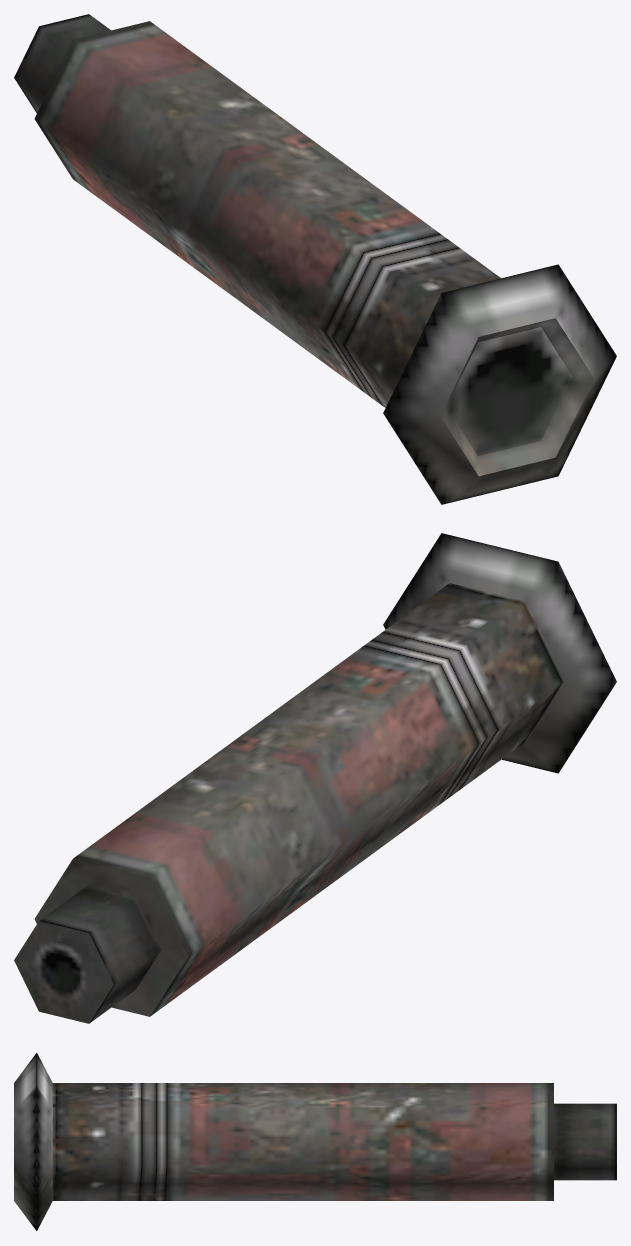
The model's file is eqp_comp_projectile_pistol_barrel.fbx.
3 views of the same model, one above another, from view 1: azimuth 30°, elevation 25°; view 2: azimuth 150°, elevation 25°; view 3: azimuth 270°, elevation 25° (orthographic). The views are drawn at different scales.
Visible parts, largest first — view 1: mesh_node; view 2: mesh_node; view 3: mesh_node.
Boxes of the visible parts, box(x1,y1,x2,y2) form: mesh_node: box(14, 14, 616, 504); mesh_node: box(14, 533, 616, 1023); mesh_node: box(14, 1053, 616, 1230).
Bounding box in the file's own units: 0.0515 × 0.0446 × 0.1727.
Materials: 1 (1 with a texture image).
